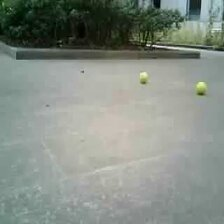tennis: (195, 82, 207, 94), (139, 71, 148, 83)
